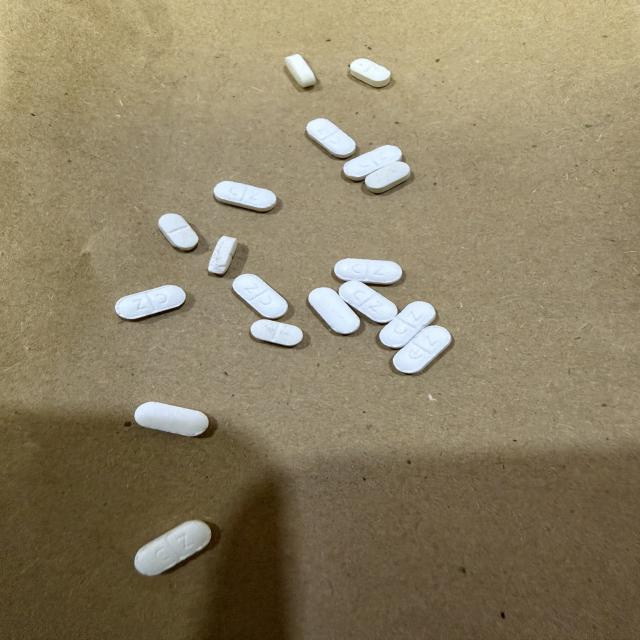pill: (135, 520, 211, 575), (393, 326, 451, 374), (379, 302, 435, 348), (135, 402, 208, 436), (339, 281, 397, 323), (233, 274, 287, 319), (115, 285, 185, 319), (309, 288, 360, 334), (343, 145, 402, 181), (214, 181, 276, 212), (307, 119, 355, 158), (334, 259, 402, 284), (158, 214, 198, 250), (365, 162, 410, 193), (251, 320, 303, 346), (350, 59, 390, 87), (208, 237, 237, 274), (285, 54, 316, 88)
